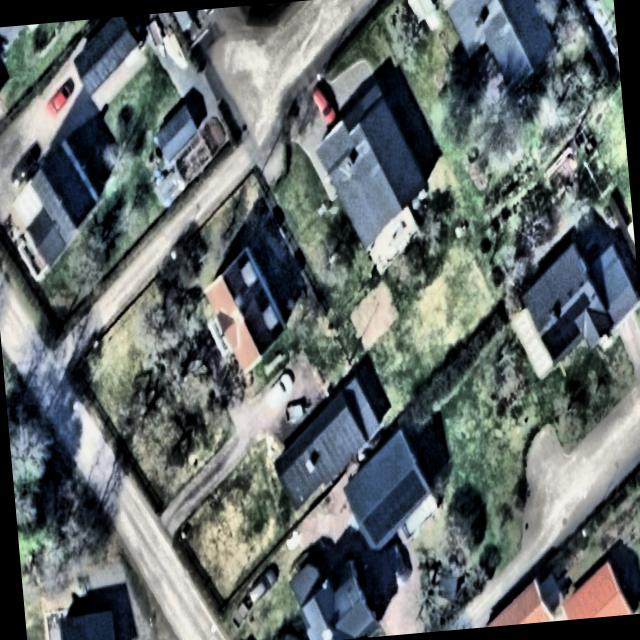roof_pv: (538, 307, 582, 366), (388, 468, 431, 524), (359, 488, 395, 550), (26, 164, 60, 207), (44, 204, 74, 238), (566, 290, 594, 317)
